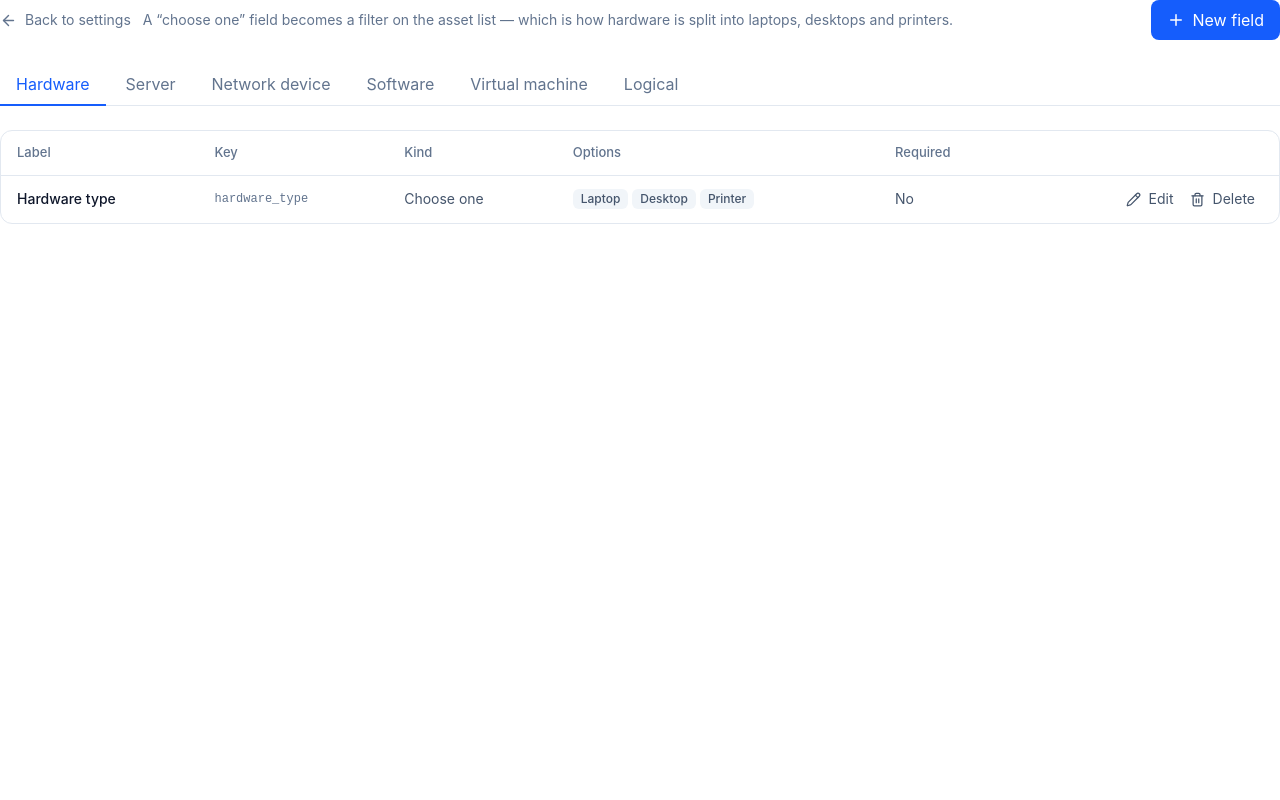
Test case: an option the estate still uses cannot be removed, and says how many use it
Expected: the text "Hardware type" is shown, x1=1 y1=175 x2=198 y2=223
Click the button with aria-label "Edit Hardware type": (1150, 199) x1=1118 y1=183 x2=1182 y2=215
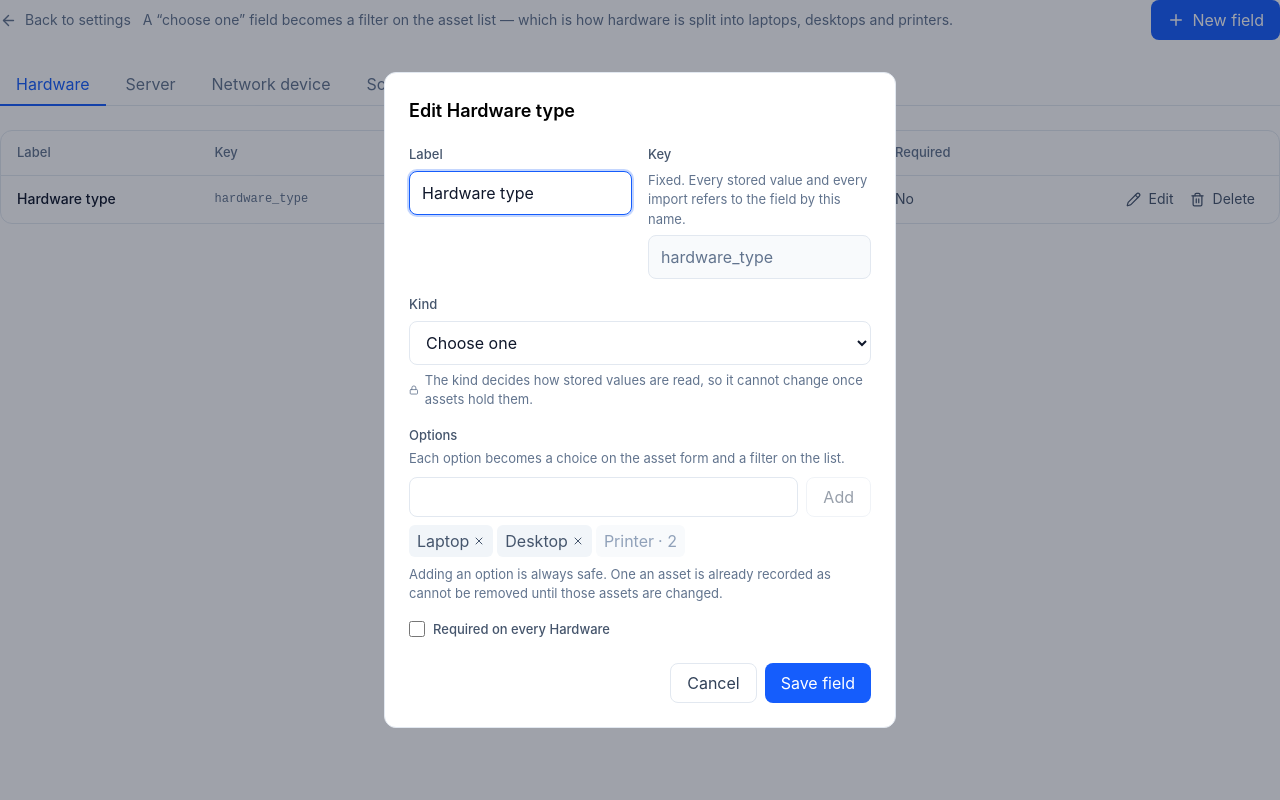
Result: the button with aria-label "Printer, used by 2 assets" is disabled at x1=596 y1=524 x2=685 y2=556
Result: the button with aria-label "Remove Laptop" is enabled at x1=409 y1=524 x2=493 y2=556
